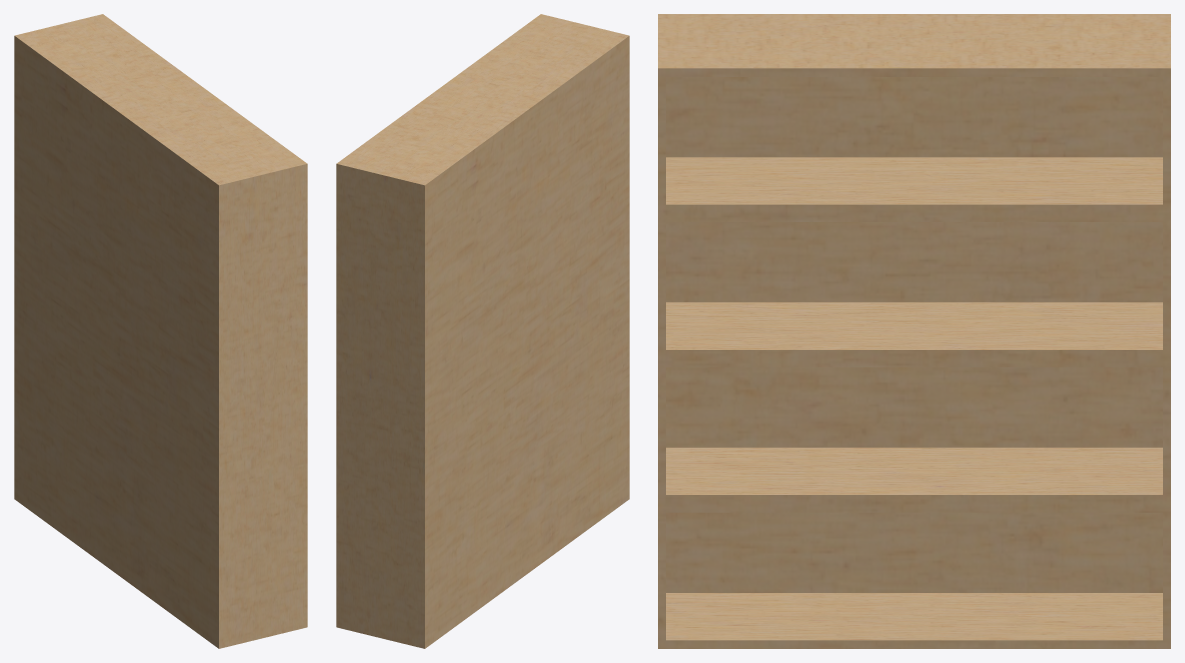
Rendered from storage_shelf.obj.
The picture shows the model from 3 angles, left to right: view 1: azimuth 30°, elevation 25°; view 2: azimuth 150°, elevation 25°; view 3: azimuth 270°, elevation 25°; orthographic projection. The views are drawn at different scales.
Visible parts, largest first — view 1: storage_shelf; view 2: storage_shelf; view 3: storage_shelf.
Part boxes in pixels (left/top/right/bottom): storage_shelf: left=14, top=14, right=307, bottom=648; storage_shelf: left=336, top=14, right=629, bottom=648; storage_shelf: left=658, top=14, right=1170, bottom=648.
Bounding box in the file's own units: 0.4 × 2 × 1.6.
1 material, 1 textured.
